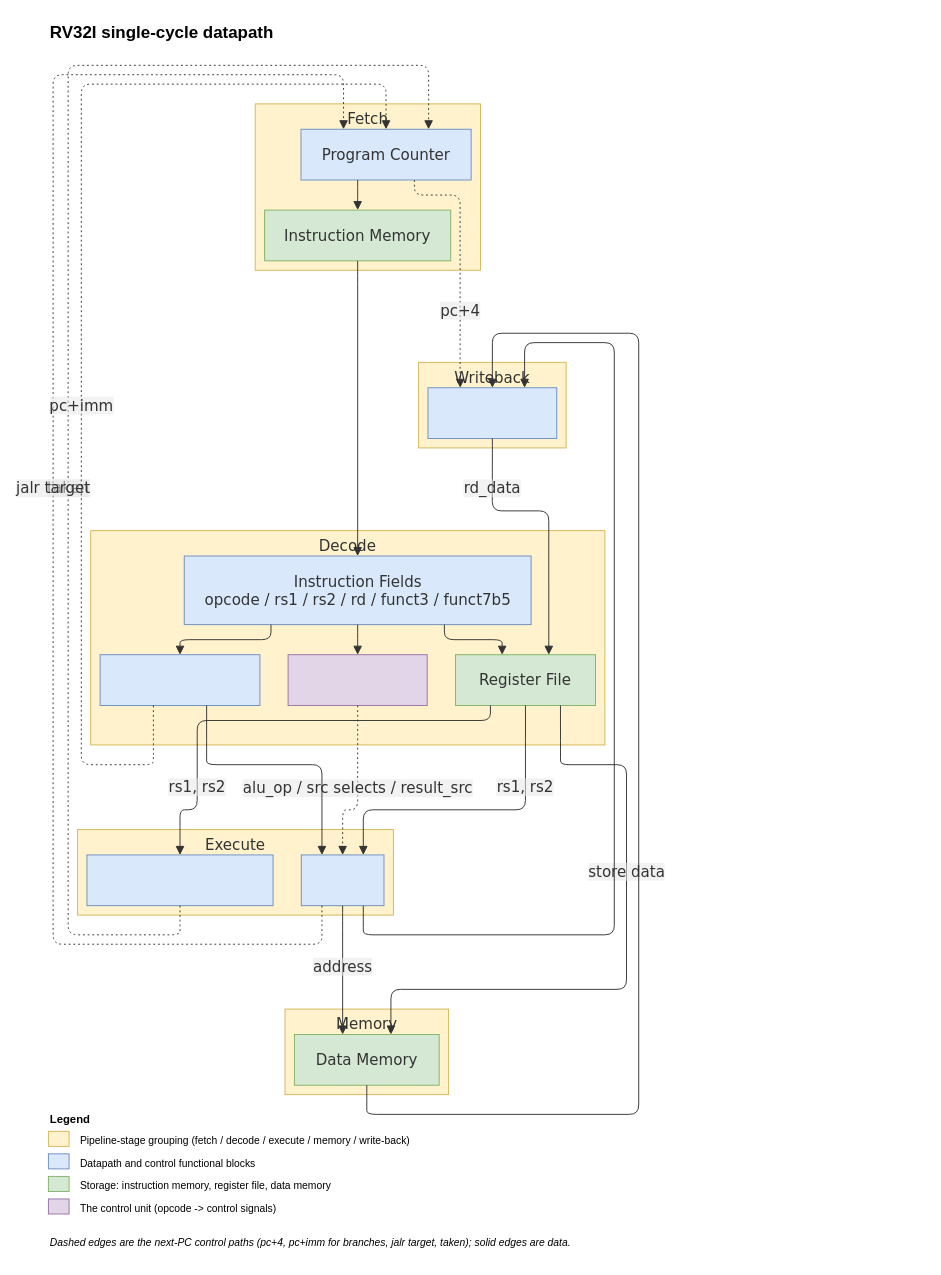
This 941x1275 diagram has some shape labels left out. The shapes that lost their labels are listed below. From the top down, each one's centre as x and y in pixels, then its label:
At [492,413]: "Result Mux".
At [179,679]: "Immediate Gen".
At [357,679]: "Control Unit".
At [179,880]: "Branch Comparator".
At [342,880]: "ALU".
